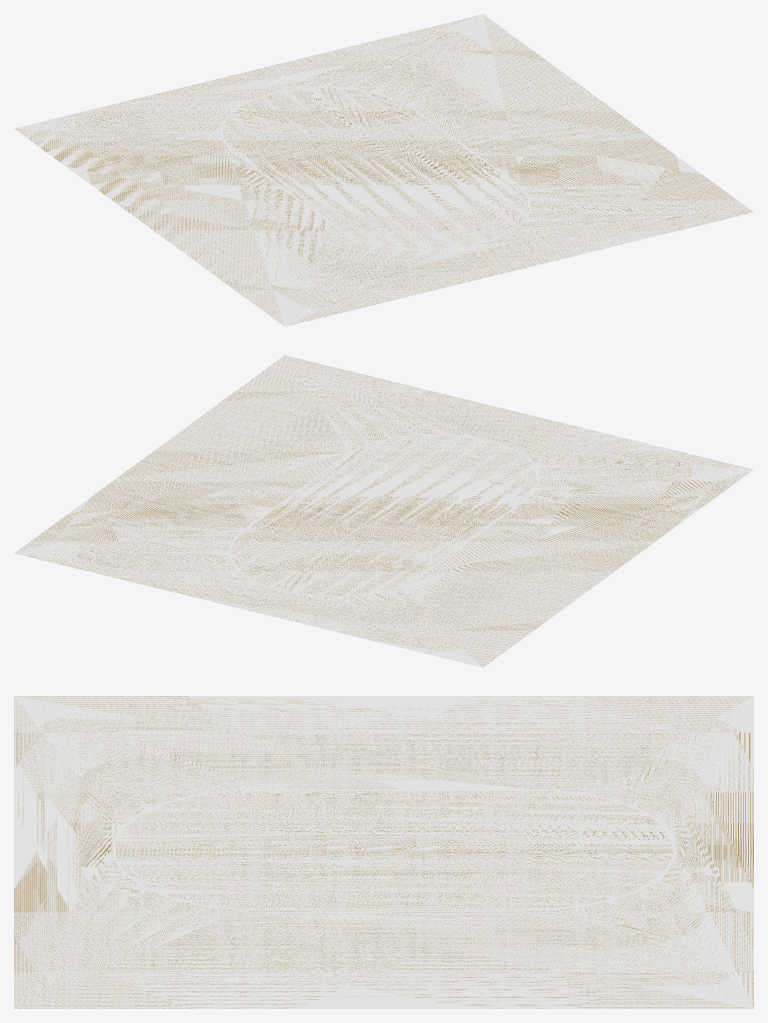
The model's file is simple_ellipse.dae.
The picture shows the model from 3 angles, top to bottom: view 1: azimuth 30°, elevation 25°; view 2: azimuth 150°, elevation 25°; view 3: azimuth 270°, elevation 25°; orthographic projection. The views are drawn at different scales.
Parts seen in each view (by area): view 1: SketchUp (×3); view 2: SketchUp (×3); view 3: SketchUp (×3).
Part boxes in pixels (box(x1,y1,x2,y2)): SketchUp (×3): box(14, 14, 753, 326); SketchUp (×3): box(14, 355, 753, 667); SketchUp (×3): box(14, 696, 753, 1008).
Size of the model in its own units: 394 by 394 by 2.52e-14.
Materials: 4 (2 with a texture image).
